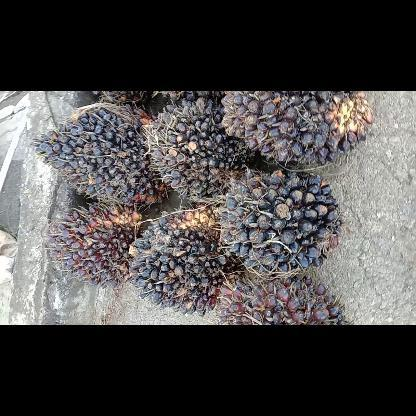TBS mentah: (24, 102, 174, 209), (219, 166, 344, 282), (124, 202, 246, 318), (140, 96, 258, 202), (217, 90, 375, 168), (42, 197, 146, 290), (218, 268, 352, 324)
